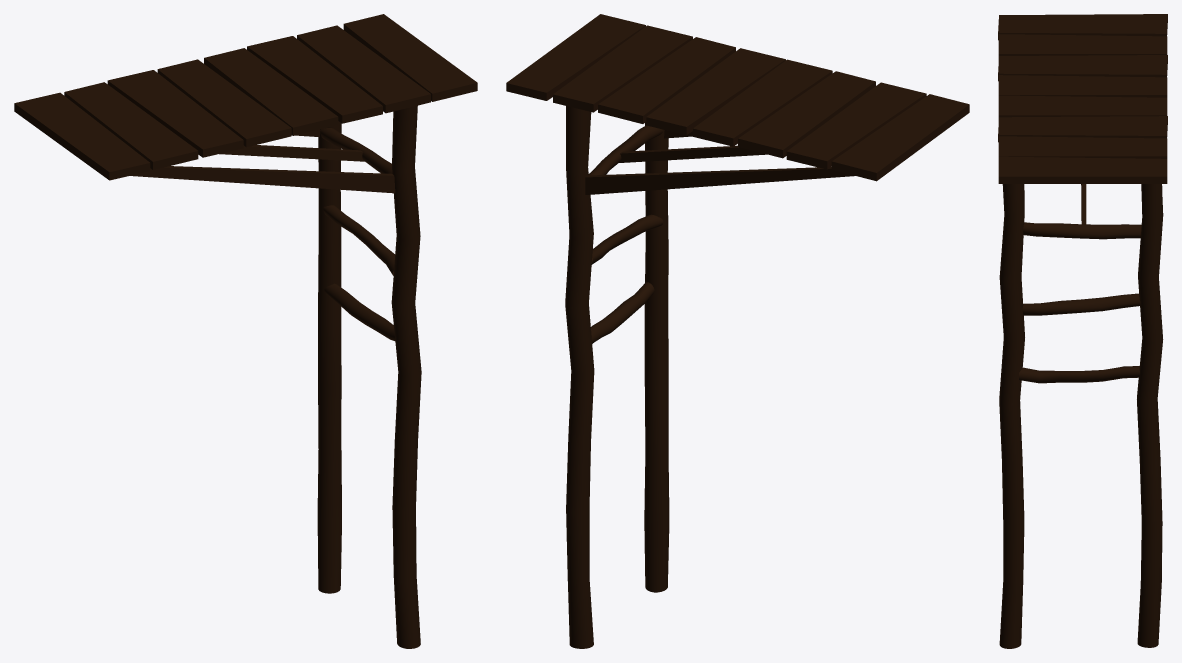
The model's file is Wood_Platform.FBX.
3 renders of one model, left to right at view 1: azimuth 30°, elevation 25°; view 2: azimuth 150°, elevation 25°; view 3: azimuth 270°, elevation 25°, orthographic. The views are drawn at different scales.
Visible parts, largest first — view 1: Box004, Cylinder002, Box011, Cylinder005; view 2: Box004, Cylinder002, Box011, Cylinder005; view 3: Box004, Cylinder002, Cylinder005.
Part boxes in pixels (left/top/right/bottom): Box004: left=14, top=14, right=477, bottom=180; Cylinder002: left=317, top=105, right=421, bottom=648; Box011: left=130, top=129, right=395, bottom=193; Cylinder005: left=320, top=128, right=395, bottom=340; Box004: left=506, top=14, right=969, bottom=181; Cylinder002: left=565, top=106, right=669, bottom=648; Box011: left=585, top=130, right=854, bottom=194; Cylinder005: left=588, top=125, right=663, bottom=343; Box004: left=998, top=14, right=1167, bottom=183; Cylinder002: left=999, top=184, right=1163, bottom=648; Cylinder005: left=1019, top=222, right=1141, bottom=383.
Size of the model in its own units: 120 by 172 by 53.23.
